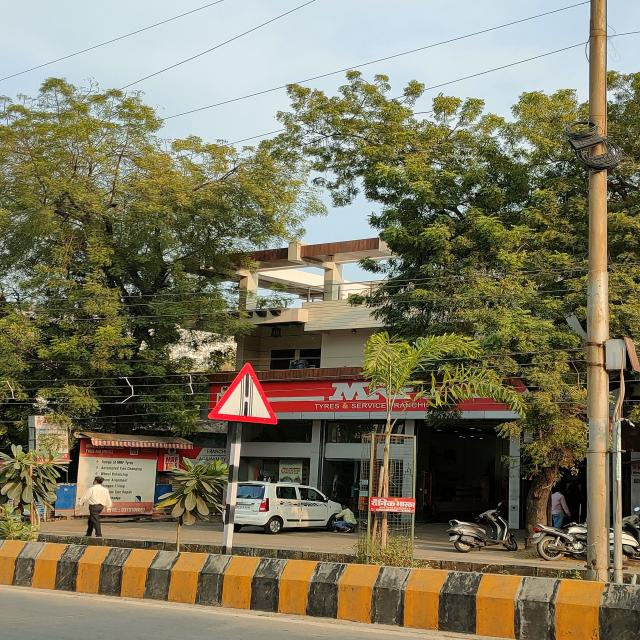ferry: (206, 362, 279, 425)
